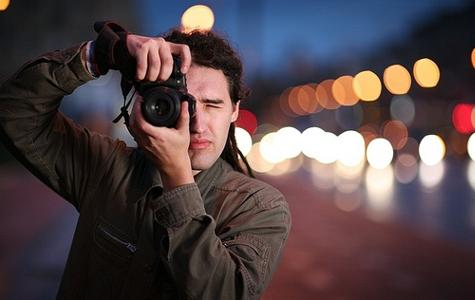person: (2, 21, 291, 300)
